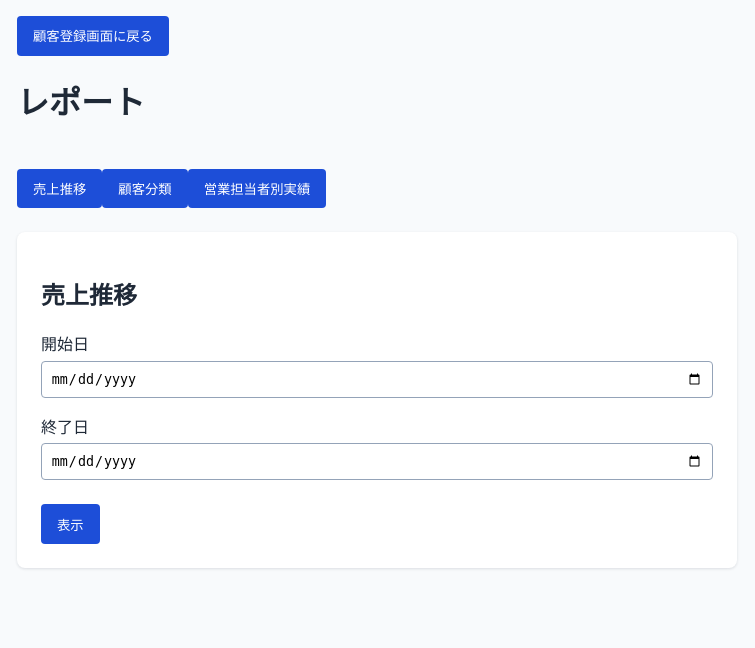
Scenario: ReportsPage › requests and displays the sales trend in API response order
Type "2026-01-15" into the date field labelled "開始日" at (377, 379), box [41, 361, 713, 398]
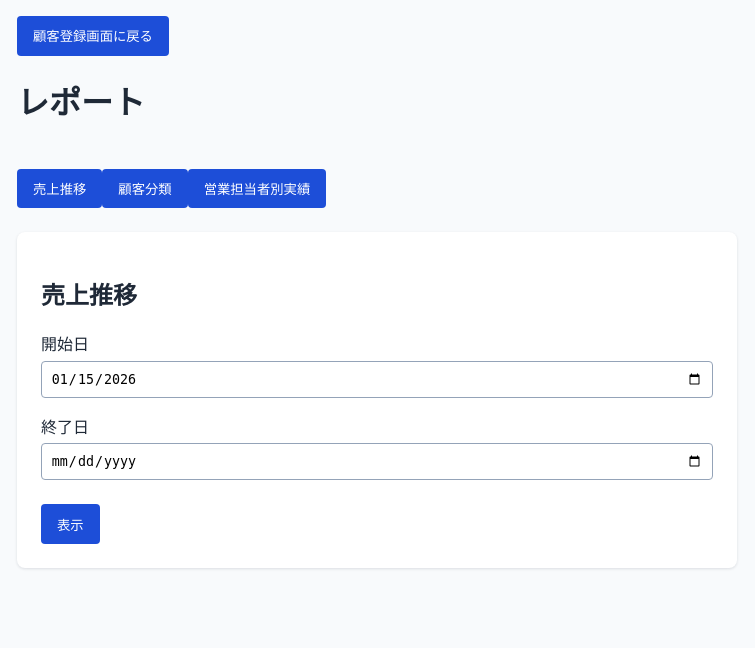
Type "2026-03-10" into the date field labelled "終了日" at (377, 462), box [41, 443, 713, 480]
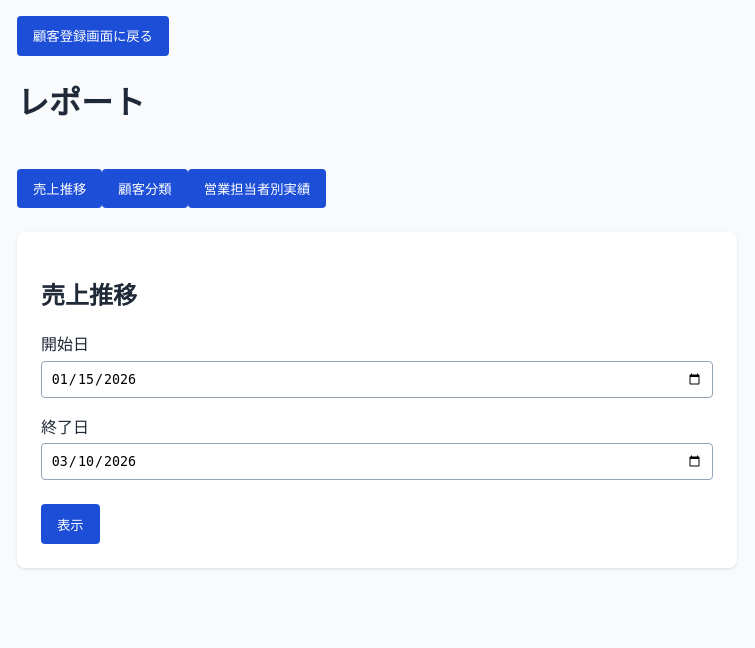
Click the button "表示" at (70, 524), box [41, 504, 100, 544]
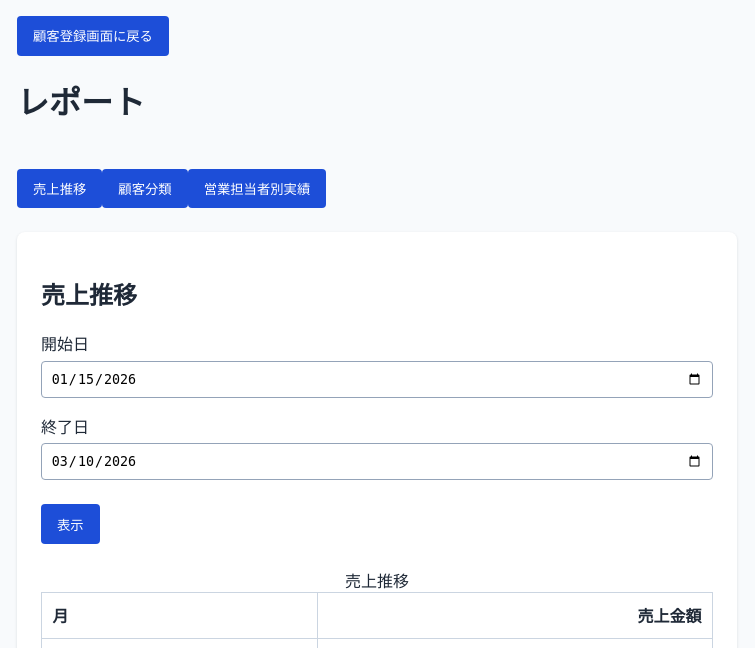
Check: the column heading "月" is shown, box [42, 593, 318, 638]
Check: the column heading "売上金額" is shown, box [318, 593, 712, 638]
